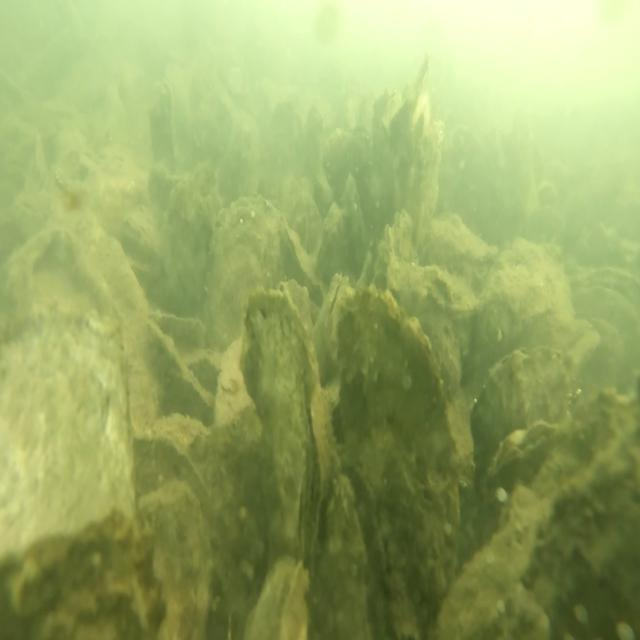Oyster-Closed: (334, 283, 458, 640), (238, 283, 328, 576), (468, 342, 572, 468), (161, 164, 221, 315), (149, 319, 214, 417), (484, 416, 559, 496), (429, 208, 494, 288), (250, 558, 311, 640), (408, 265, 480, 328), (372, 206, 412, 300), (279, 216, 323, 300), (312, 274, 346, 368), (338, 174, 368, 270), (315, 202, 344, 280), (292, 184, 314, 248), (359, 235, 376, 285)
Oyster-Indeterminate: (436, 387, 640, 640), (0, 225, 136, 569), (0, 514, 167, 640), (137, 426, 230, 640), (212, 198, 282, 358)
Oyster-Open: (308, 470, 377, 640), (571, 267, 640, 351), (148, 81, 178, 173), (122, 200, 160, 264)
